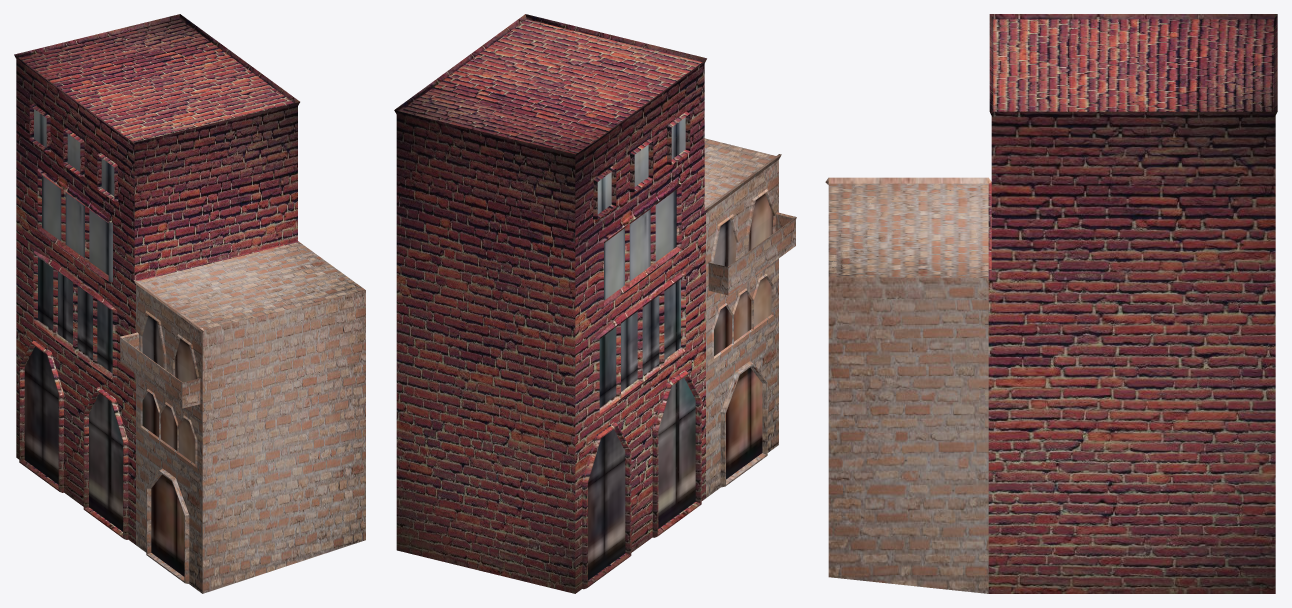
The model's file is Pair of Italian buildings.fbx.
The picture shows the model from 3 angles, left to right: view 1: azimuth 30°, elevation 25°; view 2: azimuth 150°, elevation 25°; view 3: azimuth 270°, elevation 25°; orthographic projection. The views are drawn at different scales.
Parts seen in each view (by area): view 1: Box001; view 2: Box001; view 3: Box001.
Boxes of the visible parts, x1=… form: Box001: x1=14, y1=14, x2=365, y2=593; Box001: x1=394, y1=14, x2=796, y2=593; Box001: x1=825, y1=14, x2=1277, y2=593.
Size of the model in its own units: 21.15 by 44.44 by 37.7.
